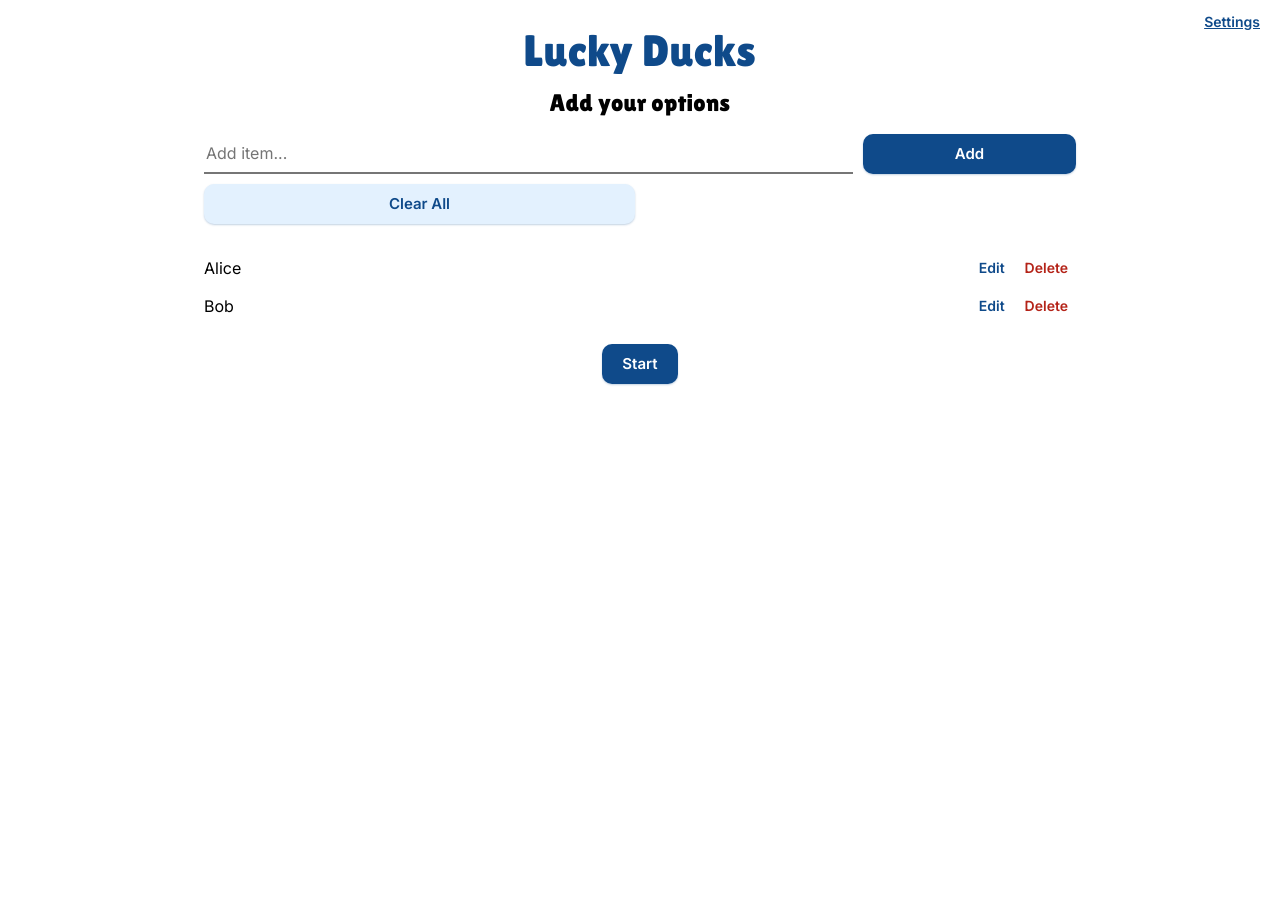
Test: App › starts the pond with a duck per option plus a decoy and focuses the prompt
The width and height of the screenshot is (1280, 900).
Click the button "Start": (640, 364) [602,344,678,384]
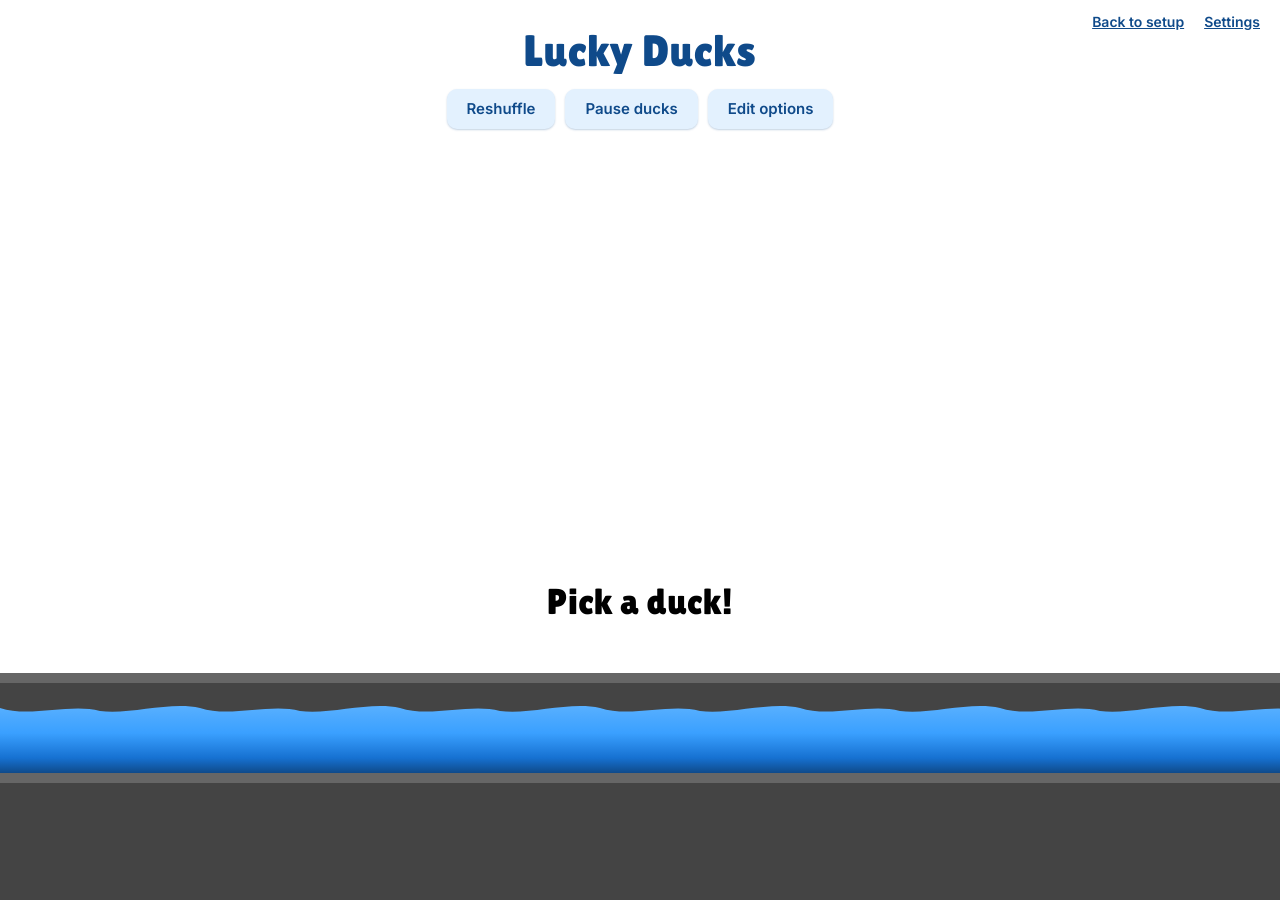
Result: the element named "Duck pond" is shown at [0,673,1279,899]
